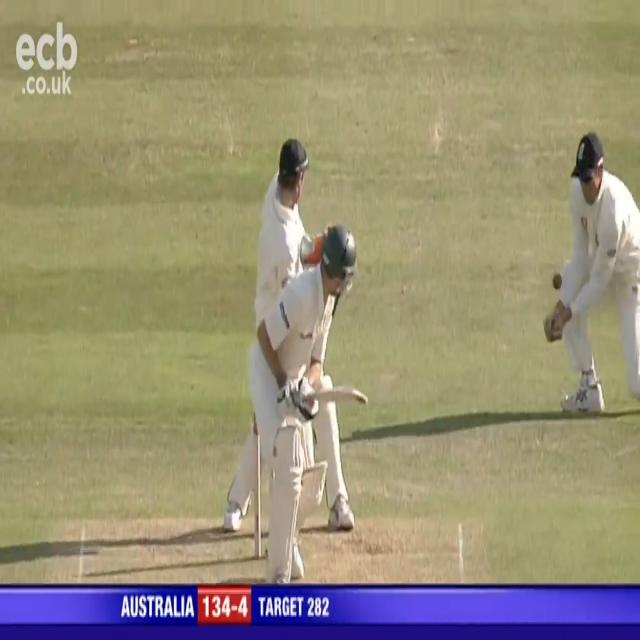ball: (549, 274, 564, 292)
